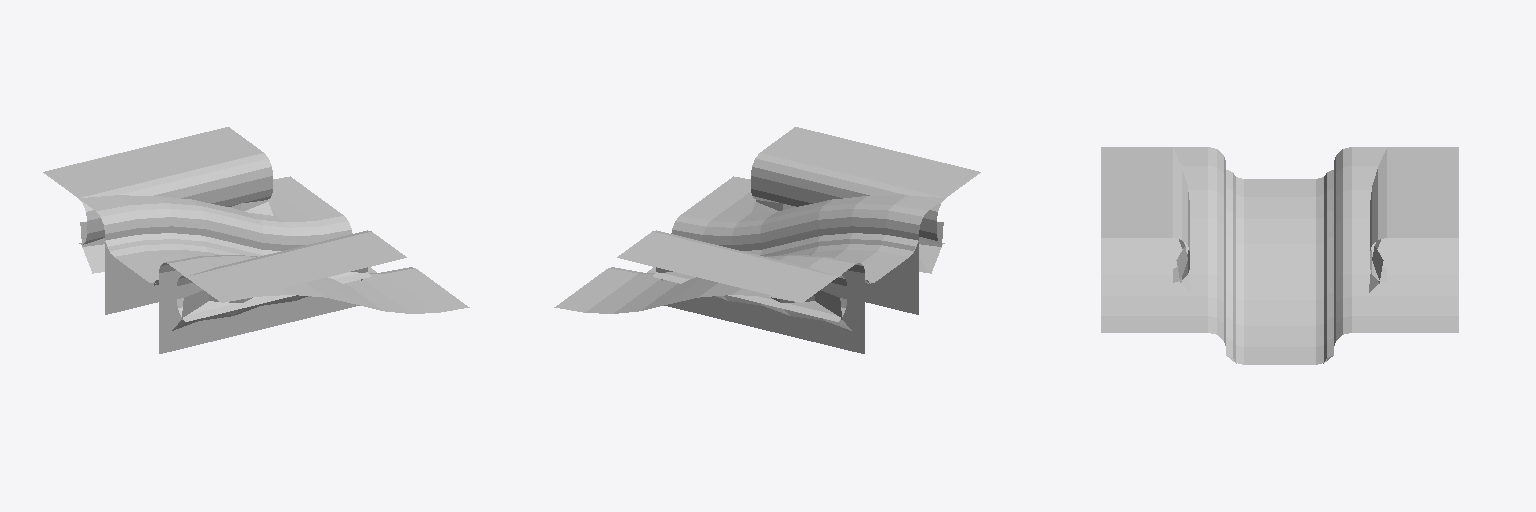
The model's file is Track_Cliff_Incline_Striped_1_Tall_Single.obj.
The picture shows the model from 3 angles: view 1: azimuth 30°, elevation 25°; view 2: azimuth 150°, elevation 25°; view 3: azimuth 270°, elevation 25°; orthographic projection.
Visible parts, largest first — view 1: Grass, Rock, Dirt, Raceline_Color_2, Raceline_Color_1; view 2: Grass, Rock, Dirt, Raceline_Color_2, Raceline_Color_1; view 3: Grass, Dirt, Raceline_Color_1, Raceline_Color_2, Rock.
Part boxes in pixels (x1,y1,x2,y2): Grass: (43,127,469,353); Rock: (80,200,367,330); Dirt: (105,241,376,283); Raceline_Color_2: (106,233,263,285); Raceline_Color_1: (138,233,280,254); Grass: (554,127,980,353); Rock: (656,200,943,330); Dirt: (647,241,918,283); Raceline_Color_2: (760,233,917,285); Raceline_Color_1: (743,233,885,254); Grass: (1101,147,1458,345); Dirt: (1227,177,1332,364); Raceline_Color_1: (1226,188,1333,363); Raceline_Color_2: (1226,170,1333,344); Rock: (1176,239,1383,292).
Bounding box in the file's own units: 4 × 1.5 × 5.